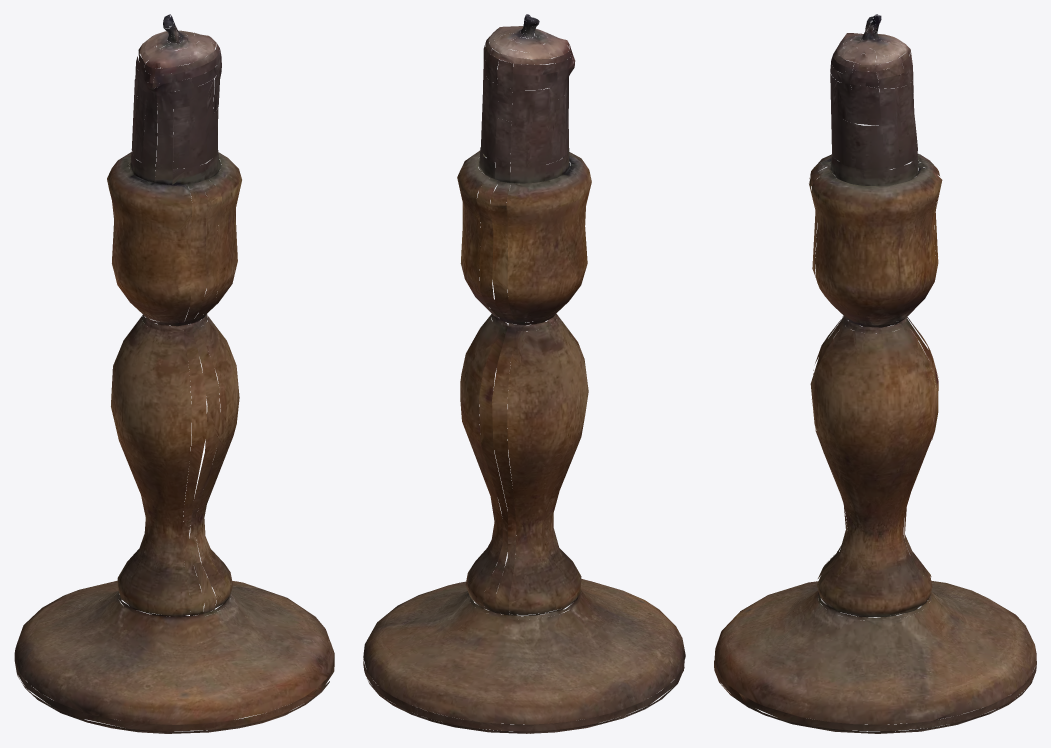
Rendered from wooden_candlestick.glb.
3 renders of one model, left to right at view 1: azimuth 30°, elevation 25°; view 2: azimuth 150°, elevation 25°; view 3: azimuth 270°, elevation 25°, orthographic.
Parts seen in each view (by area): view 1: wooden_candlestick; view 2: wooden_candlestick; view 3: wooden_candlestick.
Part boxes in pixels (x1,y1,x2,y2): wooden_candlestick: [14, 14, 334, 733]; wooden_candlestick: [363, 14, 685, 733]; wooden_candlestick: [714, 14, 1036, 733].
Bounding box in the file's own units: 0.0972 × 0.2198 × 0.0986.
Materials: 1 (1 with a texture image).
